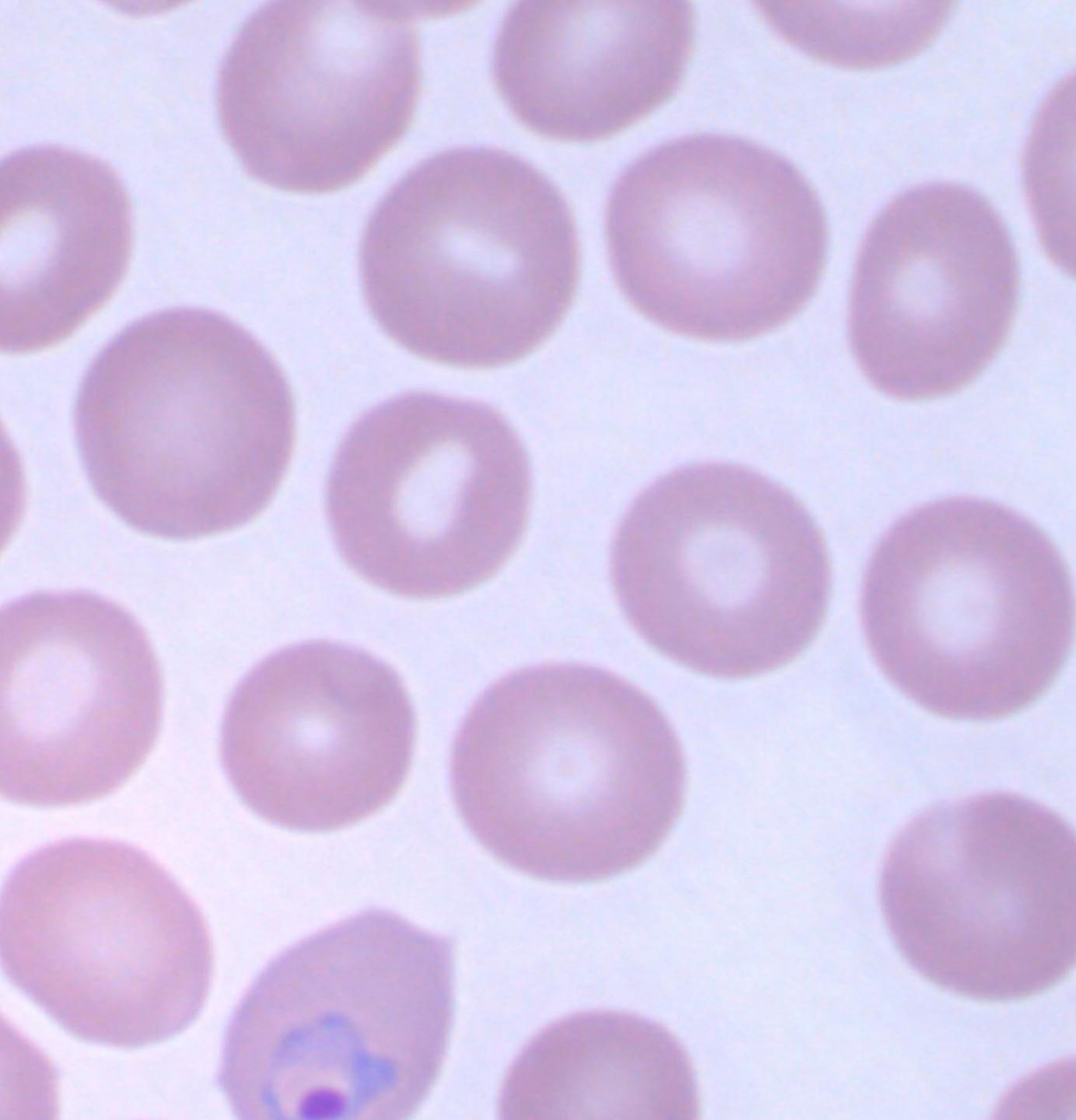Infected: (224, 904, 458, 1120)
Uninfected: (447, 659, 685, 882), (74, 305, 292, 542), (362, 148, 581, 371), (859, 500, 1069, 721), (604, 131, 828, 337), (616, 465, 831, 679), (0, 836, 211, 1050), (323, 392, 533, 601), (882, 793, 1076, 1004), (220, 0, 423, 194), (216, 640, 416, 836), (847, 183, 1020, 399), (0, 593, 164, 809), (0, 140, 133, 354), (496, 0, 693, 141)
